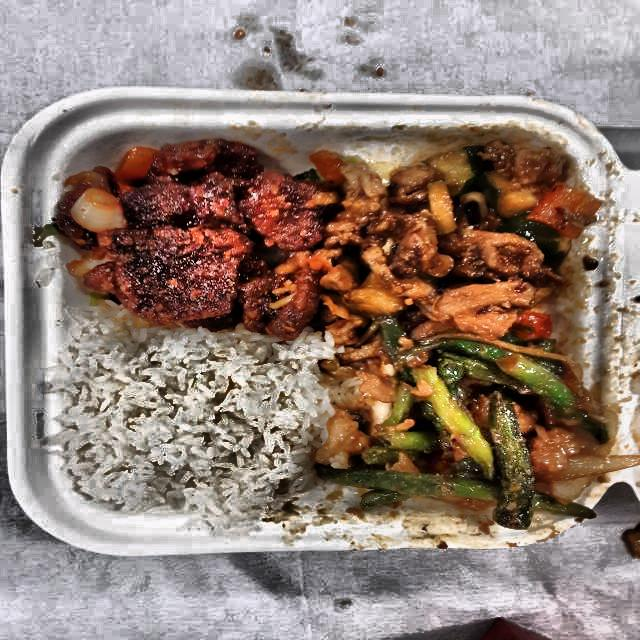Food: (310, 130, 592, 340), (51, 129, 325, 332), (333, 332, 609, 524), (59, 328, 318, 522)
